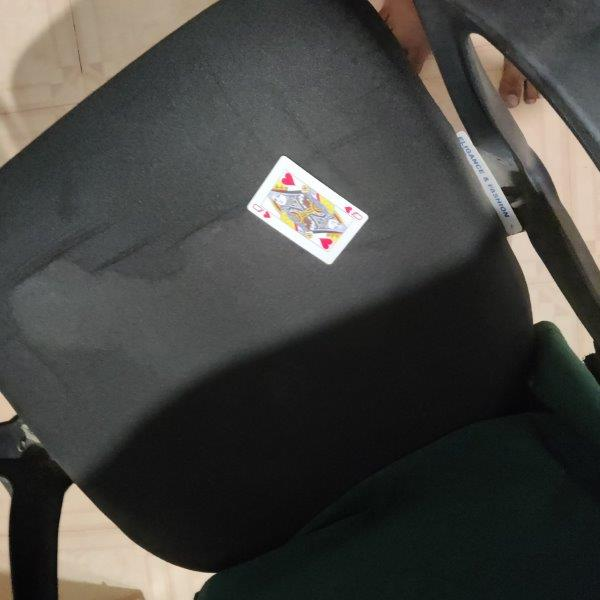Queen of Hearts: (247, 156, 371, 267)
